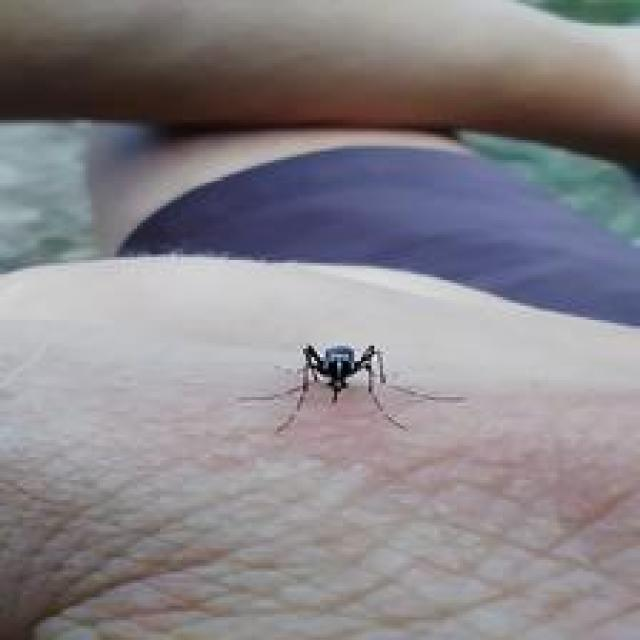Aedes albopictus: (237, 340, 466, 434)
